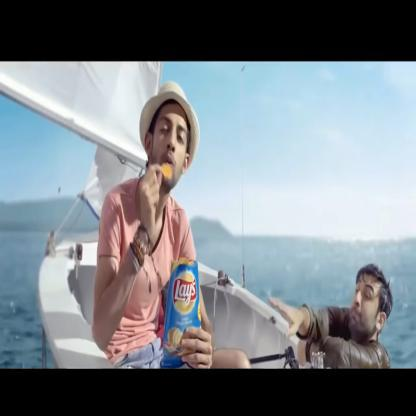indian_magic_masala: (163, 261, 202, 361)
